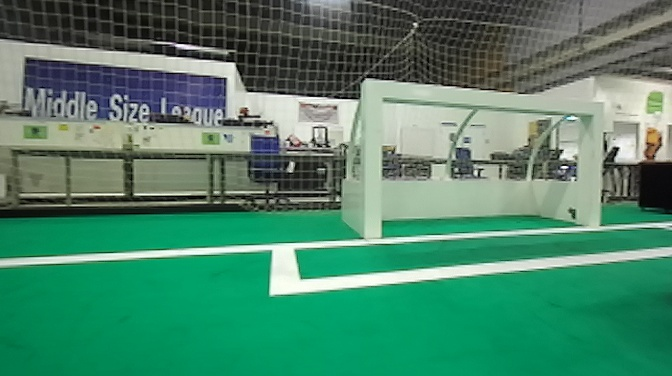goalpost: (354, 78, 382, 244), (574, 100, 602, 225)
